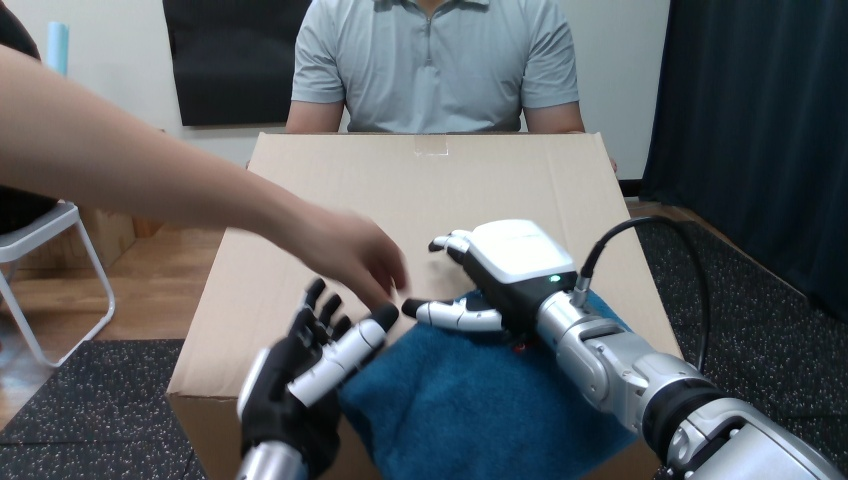left robot hand: (680, 221, 847, 476), (236, 278, 398, 479), (292, 213, 406, 309), (637, 225, 699, 362)
